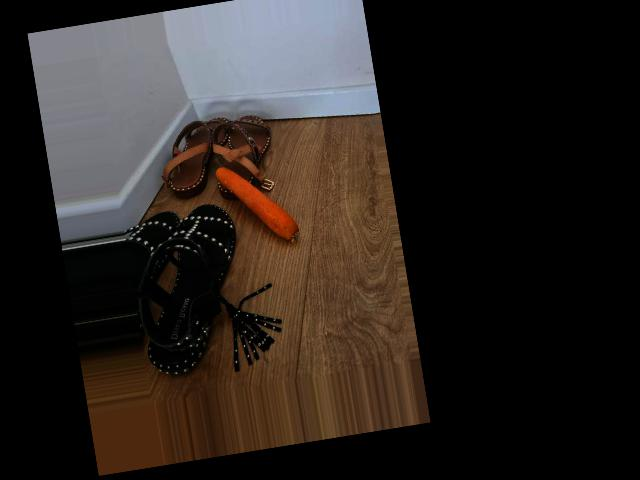carrot: (212, 157, 298, 249)
